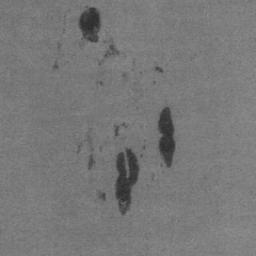Iron scale compression: (115, 148, 139, 215), (158, 106, 176, 169), (79, 7, 101, 42), (97, 43, 119, 66), (97, 190, 107, 201), (87, 155, 93, 170), (52, 60, 59, 72), (77, 142, 83, 156), (154, 66, 163, 73), (114, 125, 119, 136)
